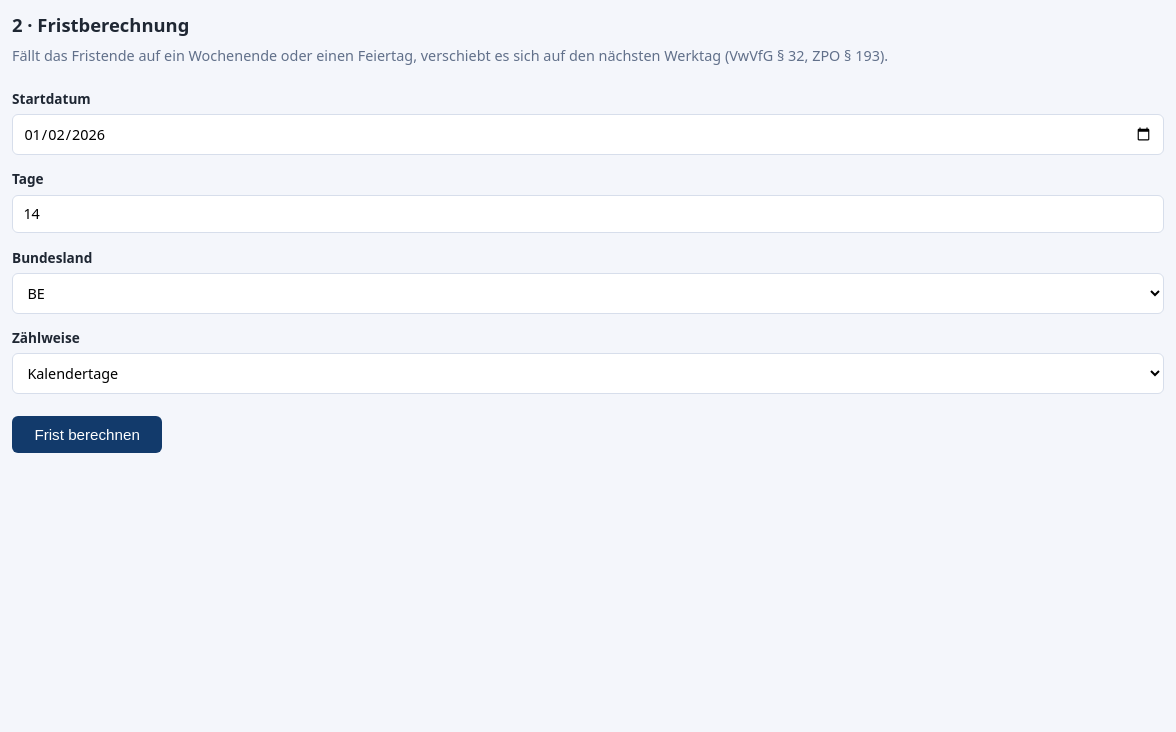
Test: DeadlinePanel › supports business-day counting selection
The width and height of the screenshot is (1176, 732).
Select "Werktage" in the dropdown labelled "Zählweise" at point(588, 374), box [12, 353, 1164, 394]
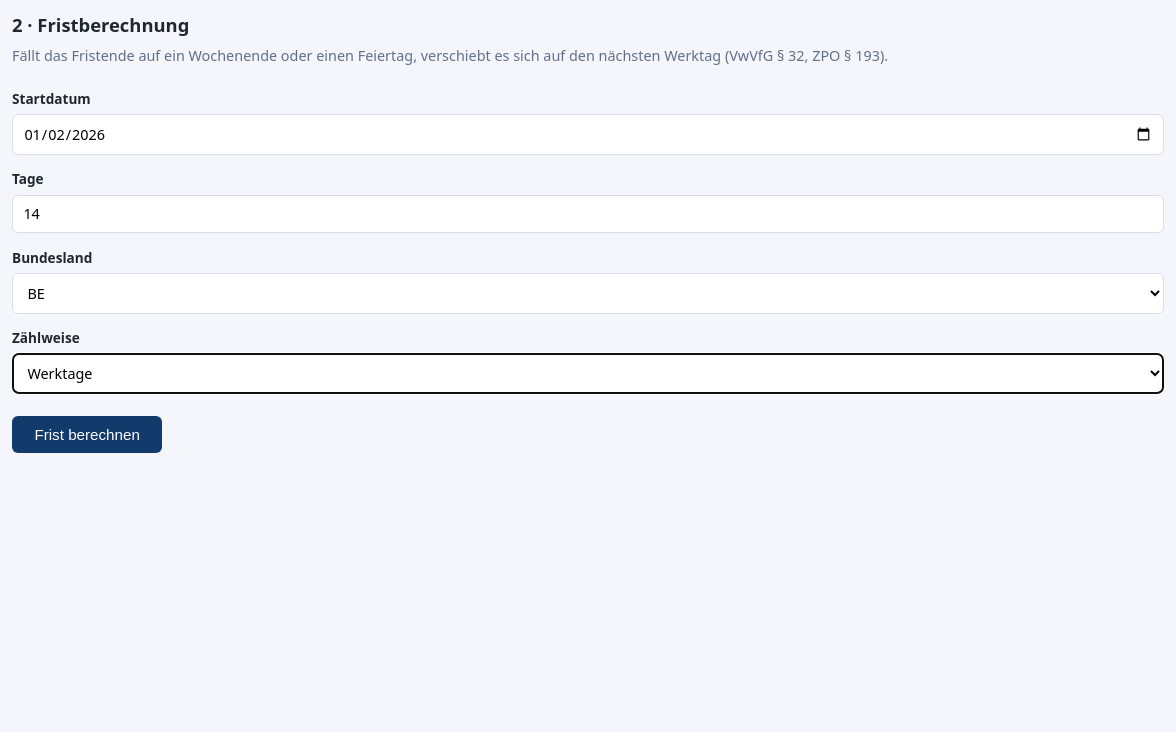
Click the button "Frist berechnen" at point(87, 434), box [12, 416, 162, 453]
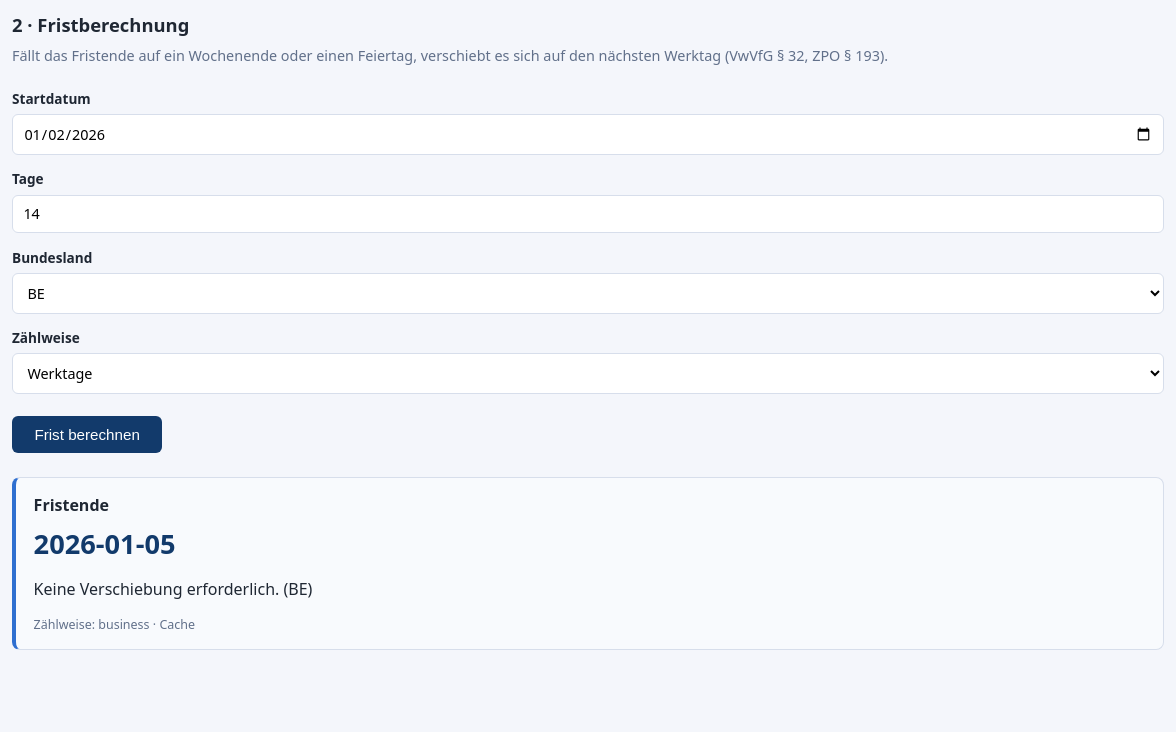
Expected: the text with test id "deadline-date" reads "2026-01-05", [34, 525, 176, 562]
Expected: the text "Zählweise: business · Cache" is shown, [34, 616, 195, 633]
